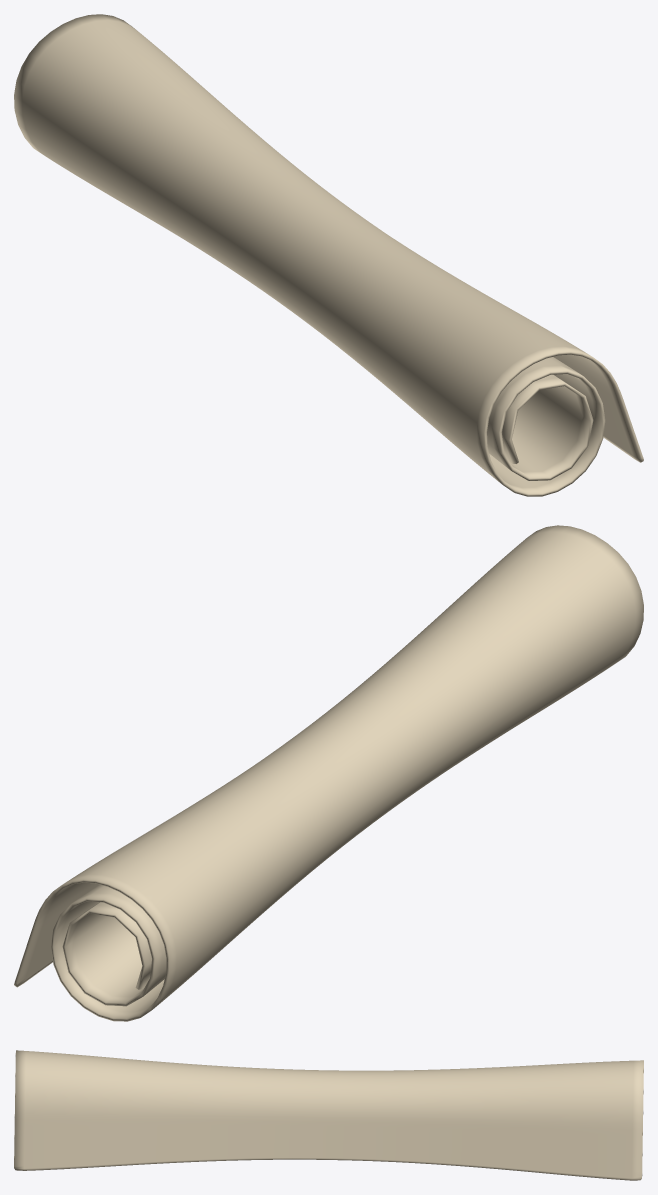
The model's file is F_List.fbx.
3 renders of one model, top to bottom at view 1: azimuth 30°, elevation 25°; view 2: azimuth 150°, elevation 25°; view 3: azimuth 270°, elevation 25°, orthographic. The views are drawn at different scales.
Parts seen in each view (by area): view 1: F_Sheet; view 2: F_Sheet; view 3: F_Sheet.
Part boxes in pixels (bbox=[...]): F_Sheet: bbox=[14, 14, 643, 496]; F_Sheet: bbox=[14, 525, 643, 1021]; F_Sheet: bbox=[14, 1050, 643, 1180].
Bounding box in the file's own units: 8.49 × 7.45 × 42.44.
